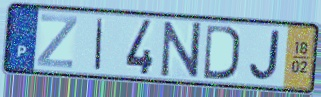4: (124, 18, 155, 77)
D: (202, 22, 242, 82)
I: (93, 16, 106, 72)
J: (247, 28, 282, 83)
N: (160, 20, 203, 79)
Z: (34, 13, 80, 71)
